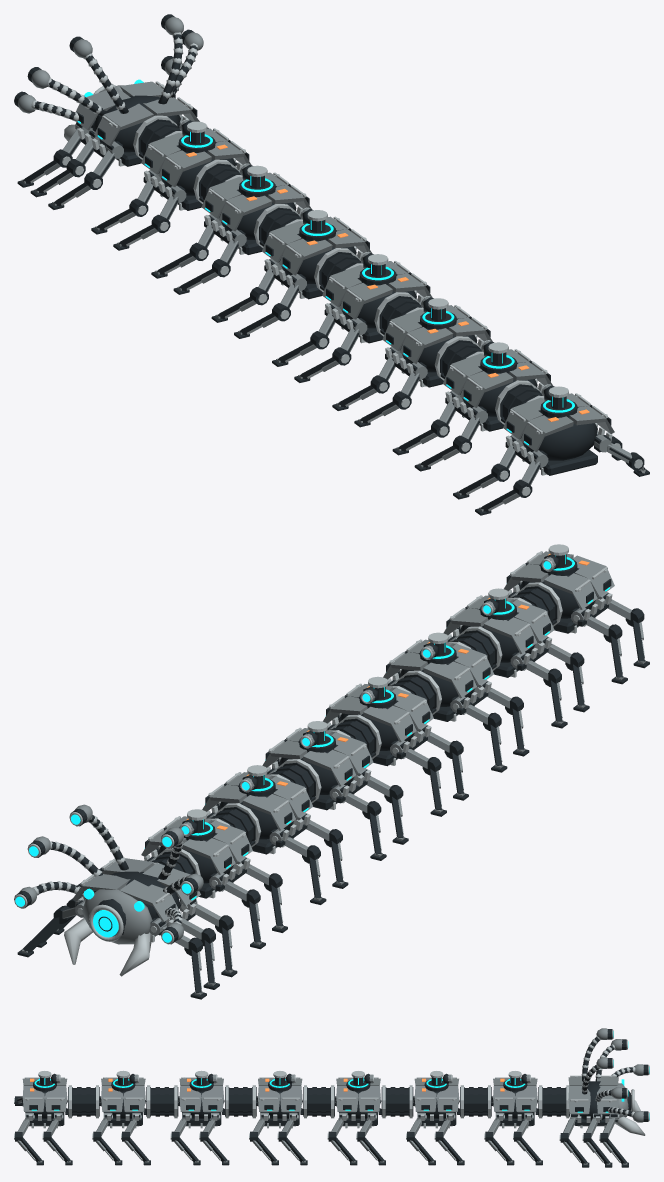
File: foundry_zero_mechanical_legs_v2.glb
3 views of the same model, one above another, from view 1: azimuth 30°, elevation 25°; view 2: azimuth 150°, elevation 25°; view 3: azimuth 270°, elevation 25° (orthographic). The views are drawn at different scales.
Visible parts, largest first — view 1: FZ_BODY_07_SHELL, FZ_HEAD_SHELL, FZ_BODY_02_SHELL, FZ_BODY_04_SHELL, FZ_BODY_05_SHELL, FZ_BODY_06_SHELL, FZ_BODY_01_SHELL, FZ_BODY_03_SHELL, FZ_BODY_06_CONNECTOR_MESH, FZ_BODY_07_CONNECTOR_MESH, FZ_BODY_05_CONNECTOR_MESH, FZ_BODY_01_CONNECTOR_MESH (+8 smaller); view 2: FZ_HEAD_SHELL, FZ_BODY_06_SHELL, FZ_BODY_02_SHELL, FZ_BODY_07_SHELL, FZ_BODY_05_SHELL, FZ_BODY_03_SHELL, FZ_BODY_04_SHELL, FZ_BODY_01_SHELL, FZ_BODY_07_CONNECTOR_MESH, FZ_BODY_06_CONNECTOR_MESH, FZ_BODY_02_CONNECTOR_MESH, FZ_BODY_03_CONNECTOR_MESH (+7 smaller); view 3: FZ_HEAD_SHELL, FZ_BODY_05_SHELL, FZ_BODY_04_SHELL, FZ_BODY_07_SHELL, FZ_BODY_02_SHELL, FZ_BODY_03_SHELL, FZ_BODY_06_SHELL, FZ_BODY_01_SHELL, FZ_BODY_03_CONNECTOR_MESH, FZ_BODY_06_CONNECTOR_MESH, FZ_BODY_05_CONNECTOR_MESH, FZ_BODY_02_CONNECTOR_MESH (+16 smaller).
Boxes of the visible parts, bbox=[...] form: FZ_BODY_07_SHELL: bbox=[503, 386, 614, 475]; FZ_HEAD_SHELL: bbox=[64, 79, 199, 166]; FZ_BODY_02_SHELL: bbox=[201, 165, 311, 254]; FZ_BODY_04_SHELL: bbox=[322, 254, 432, 343]; FZ_BODY_05_SHELL: bbox=[382, 298, 492, 387]; FZ_BODY_06_SHELL: bbox=[443, 342, 552, 431]; FZ_BODY_01_SHELL: bbox=[141, 121, 251, 210]; FZ_BODY_03_SHELL: bbox=[262, 210, 371, 299]; FZ_BODY_06_CONNECTOR_MESH: bbox=[434, 336, 483, 380]; FZ_BODY_07_CONNECTOR_MESH: bbox=[495, 380, 544, 424]; FZ_BODY_05_CONNECTOR_MESH: bbox=[374, 292, 423, 336]; FZ_BODY_01_CONNECTOR_MESH: bbox=[133, 115, 182, 159]; FZ_HEAD_SHELL: bbox=[64, 858, 200, 976]; FZ_BODY_06_SHELL: bbox=[443, 588, 554, 677]; FZ_BODY_02_SHELL: bbox=[202, 765, 312, 854]; FZ_BODY_07_SHELL: bbox=[504, 544, 614, 633]; FZ_BODY_05_SHELL: bbox=[383, 632, 493, 721]; FZ_BODY_03_SHELL: bbox=[262, 721, 373, 810]; FZ_BODY_04_SHELL: bbox=[323, 676, 433, 766]; FZ_BODY_01_SHELL: bbox=[141, 809, 252, 898]; FZ_BODY_07_CONNECTOR_MESH: bbox=[508, 582, 562, 626]; FZ_BODY_06_CONNECTOR_MESH: bbox=[449, 626, 502, 670]; FZ_BODY_02_CONNECTOR_MESH: bbox=[207, 803, 261, 847]; FZ_BODY_03_CONNECTOR_MESH: bbox=[267, 759, 321, 803]; FZ_HEAD_SHELL: bbox=[568, 1075, 645, 1135]; FZ_BODY_05_SHELL: bbox=[178, 1070, 224, 1128]; FZ_BODY_04_SHELL: bbox=[257, 1071, 302, 1128]; FZ_BODY_07_SHELL: bbox=[22, 1071, 67, 1128]; FZ_BODY_02_SHELL: bbox=[414, 1071, 459, 1128]; FZ_BODY_03_SHELL: bbox=[335, 1071, 381, 1128]; FZ_BODY_06_SHELL: bbox=[100, 1070, 146, 1128]; FZ_BODY_01_SHELL: bbox=[492, 1071, 537, 1128]; FZ_BODY_03_CONNECTOR_MESH: bbox=[381, 1085, 413, 1118]; FZ_BODY_06_CONNECTOR_MESH: bbox=[146, 1085, 178, 1118]; FZ_BODY_05_CONNECTOR_MESH: bbox=[225, 1085, 256, 1118]; FZ_BODY_02_CONNECTOR_MESH: bbox=[460, 1085, 491, 1118].
Bounding box in the file's own units: 5.64 × 4.29 × 25.96.
